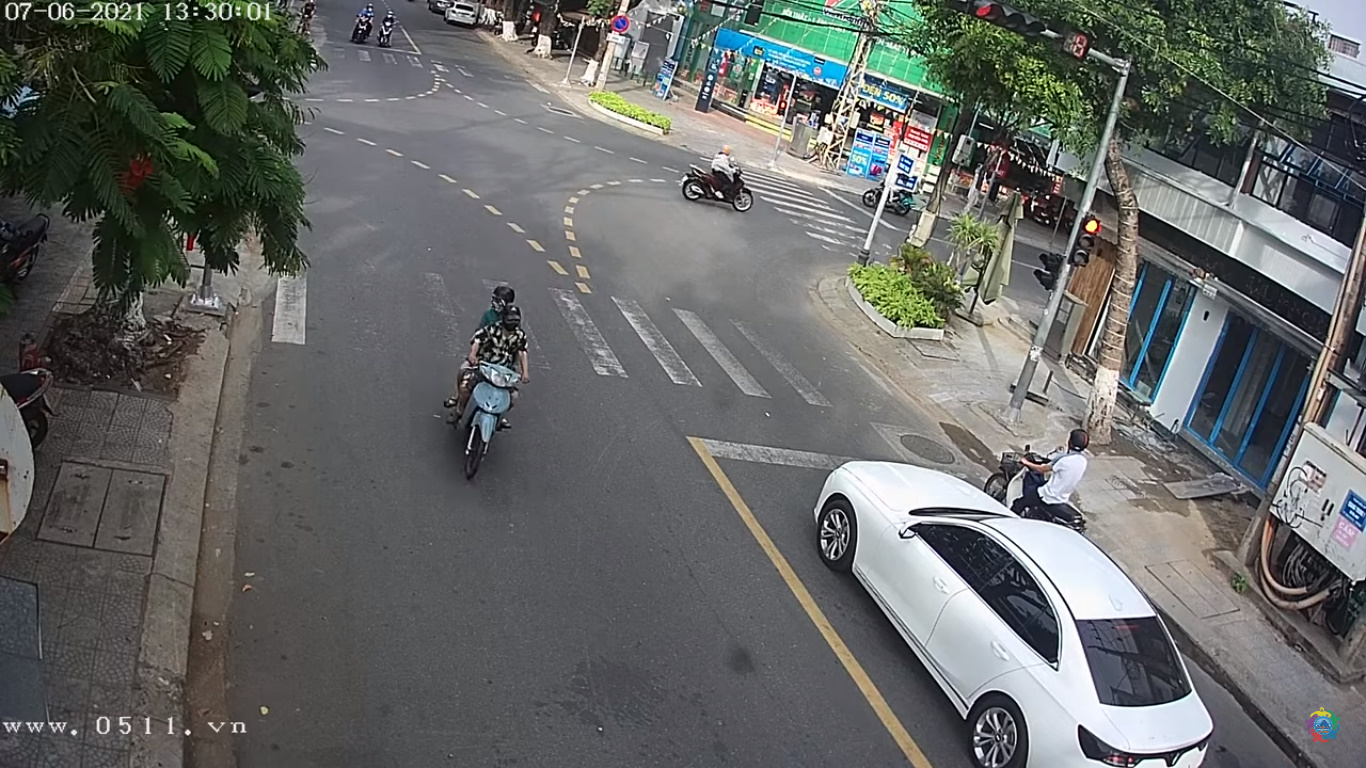motorbike: (452, 282, 530, 474)
